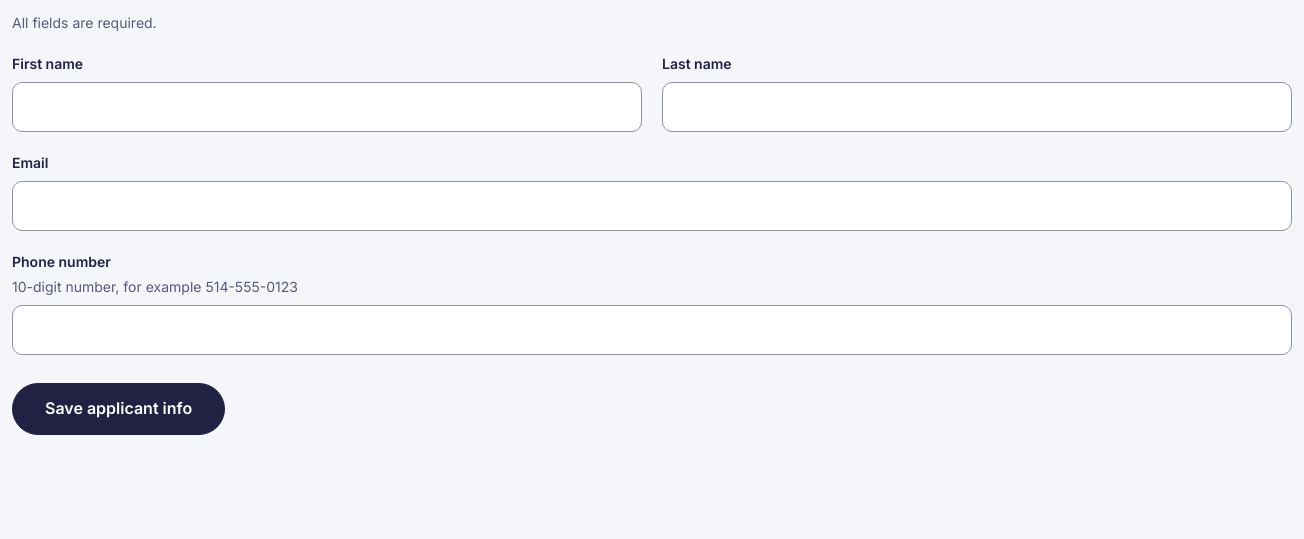
ApplicantForm › shows what is missing and focuses the first invalid field
What coordinates should you click on to do the following:
click the button "Save applicant info"
I would click on:
 (119, 409)
Its box is [12,383,225,435].
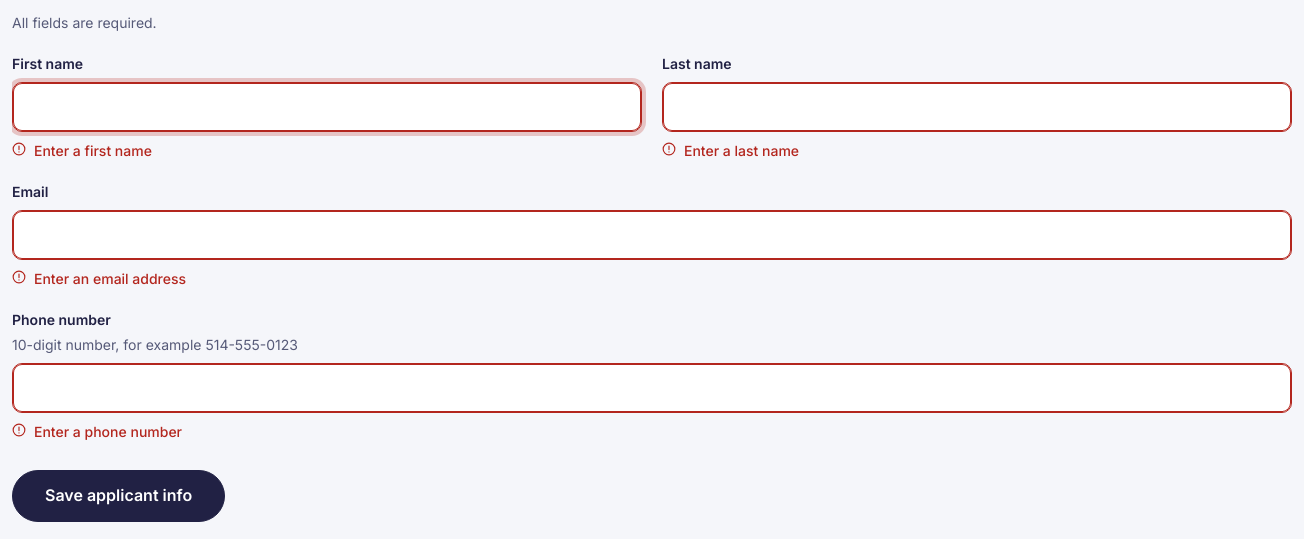
Expected: the text "Enter a first name" is shown, [34,140,152,161]
Expected: the text "Enter a last name" is shown, [684,140,799,161]
Expected: the text "Enter an email address" is shown, [34,268,186,289]
